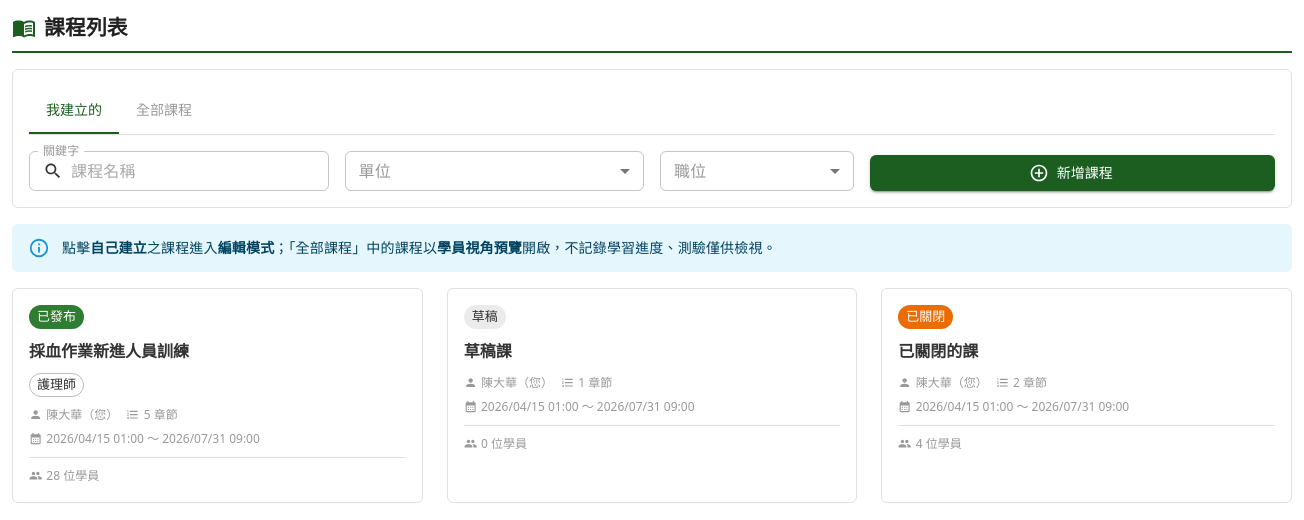
Test: ET01 課程列表 › 單位下拉含已停用者並標示出來
The width and height of the screenshot is (1304, 520).
Expected: the heading "採血作業新進人員訓練" is shown, [29,340,189,362]
Click the dropdown named "單位" next to "單位" at [494, 171], box [344,151,644,191]
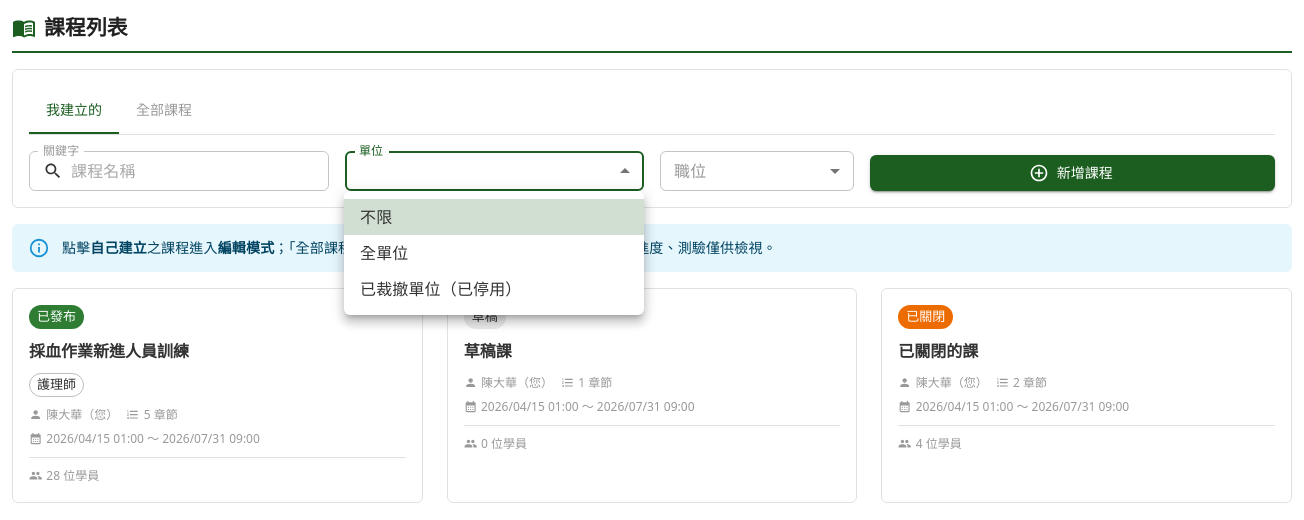
Expected: the option "已裁撤單位（已停用）" is shown, [360,278,522,300]
Expected: the option "全單位" is shown, [360,242,408,264]
